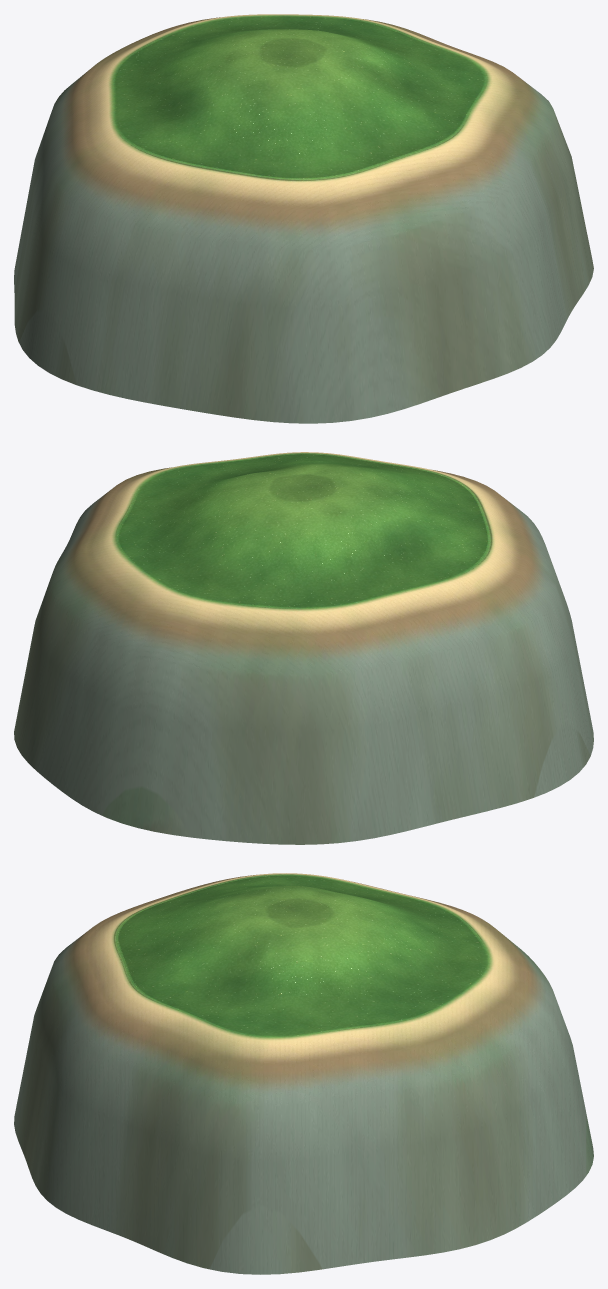
File: green_1.glb
The picture shows the model from 3 angles, top to bottom: view 1: azimuth 30°, elevation 25°; view 2: azimuth 150°, elevation 25°; view 3: azimuth 270°, elevation 25°; orthographic projection. The views are drawn at different scales.
Parts seen in each view (by area): view 1: green_1; view 2: green_1; view 3: green_1.
Boxes of the visible parts, bbox=[...] form: green_1: bbox=[14, 14, 593, 423]; green_1: bbox=[14, 452, 593, 844]; green_1: bbox=[14, 873, 593, 1274].
Bounding box in the file's own units: 32.46 × 14.15 × 31.56.
1 material, 1 textured.
